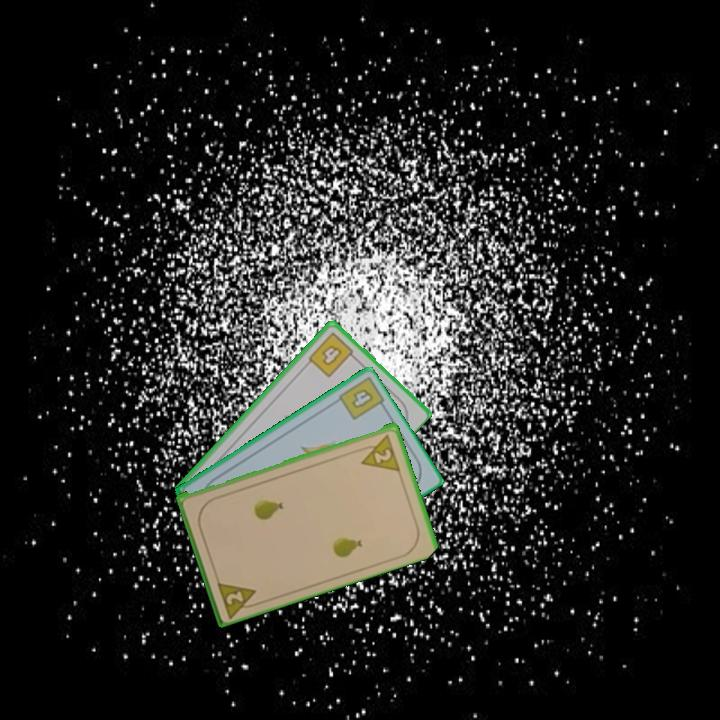2p: (354, 429, 403, 473), (213, 576, 263, 619)
4b: (305, 328, 360, 380), (348, 385, 376, 411)
